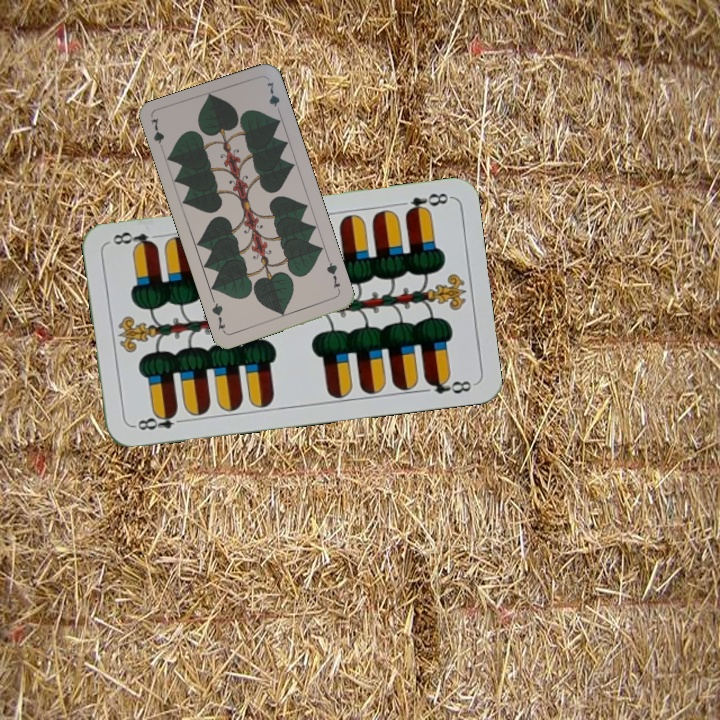E8: (129, 407, 188, 433), (401, 188, 453, 217)
G7: (322, 255, 343, 295), (147, 114, 167, 155)
